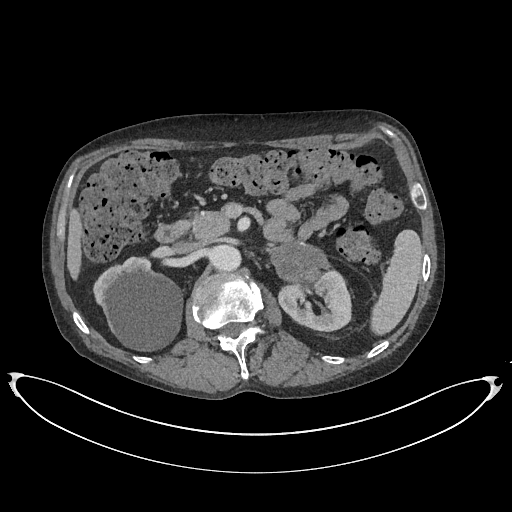Lesion: (265, 237, 336, 285)
